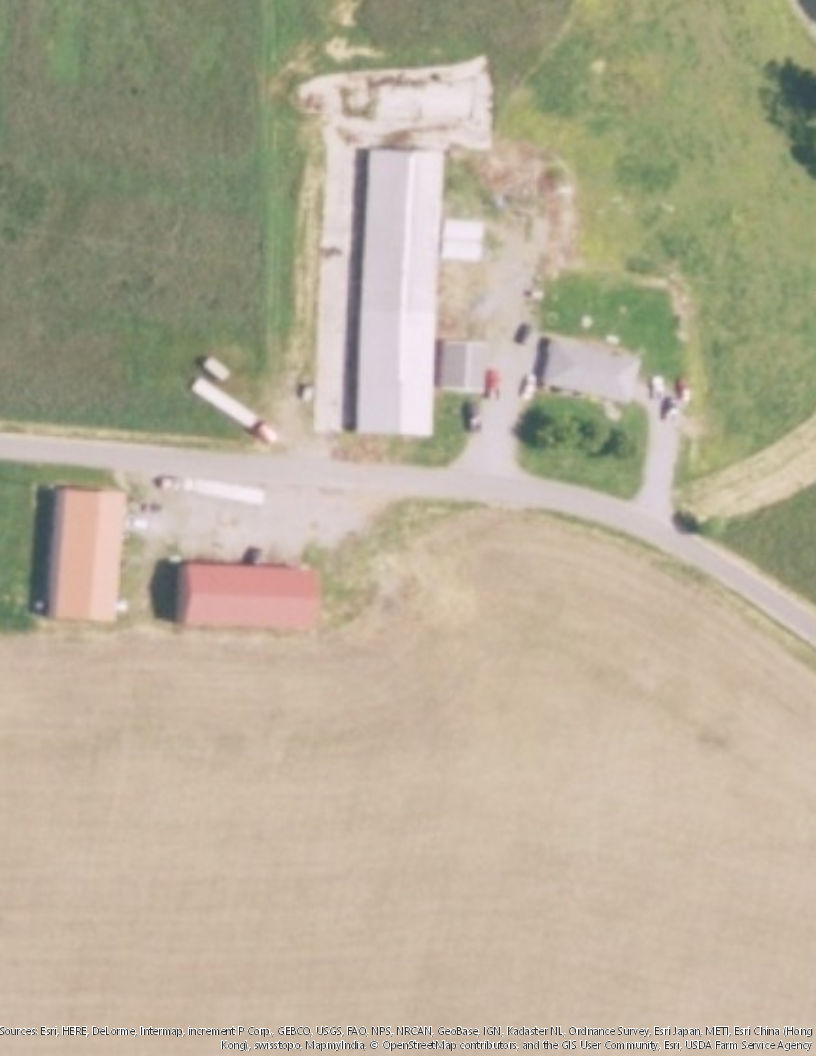cafo: (325, 132, 467, 447)
